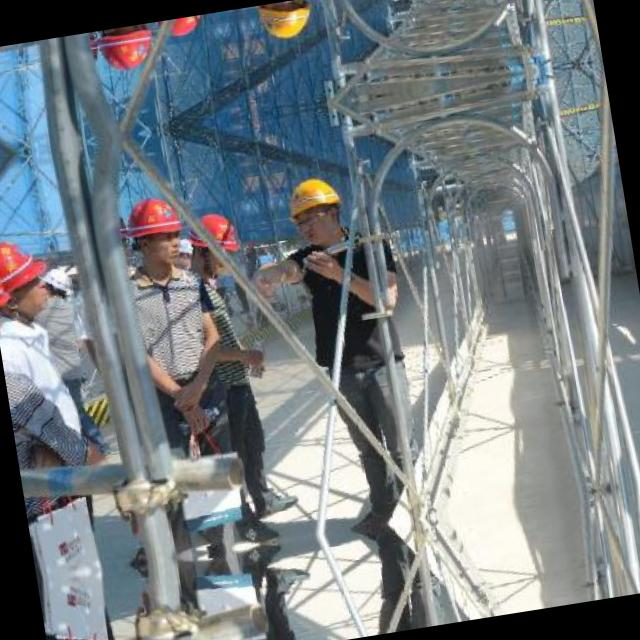helmet: (113, 185, 193, 278), (280, 167, 350, 250), (88, 22, 164, 84), (0, 228, 52, 312), (184, 208, 243, 272), (252, 0, 320, 51), (36, 262, 78, 304), (152, 15, 208, 42), (0, 44, 18, 82)
